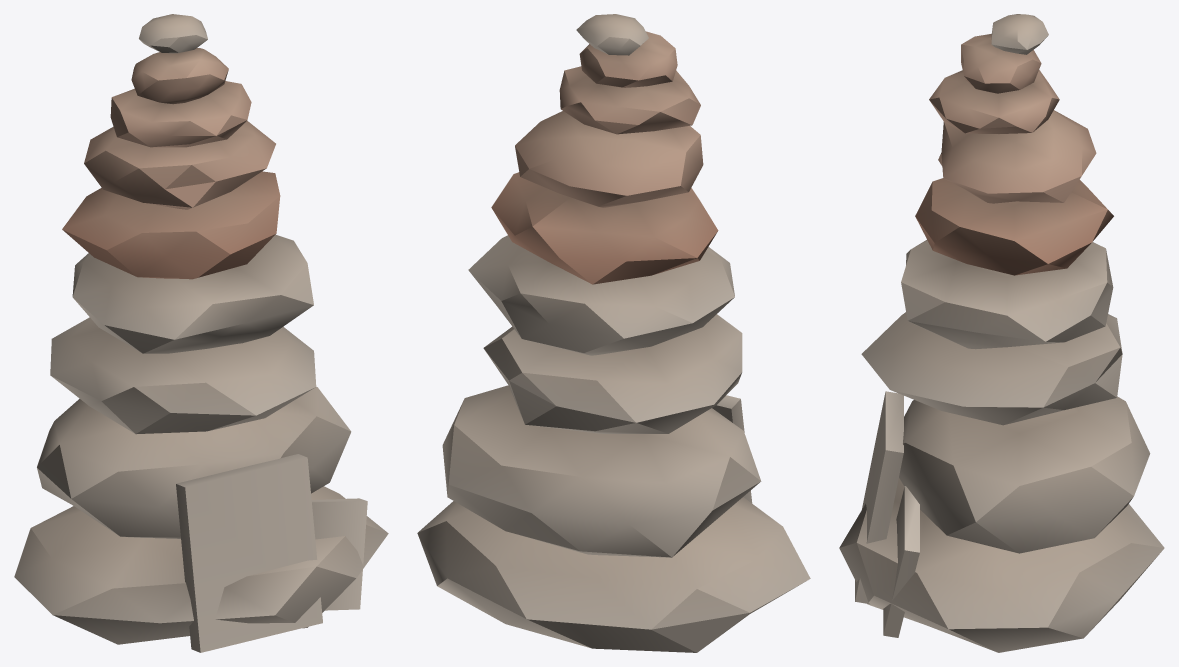
File: cairn_names.glb
3 views of the same model, side by side, from view 1: azimuth 30°, elevation 25°; view 2: azimuth 150°, elevation 25°; view 3: azimuth 270°, elevation 25° (orthographic). The views are drawn at different scales.
Visible parts, largest first — view 1: cairn_names; view 2: cairn_names; view 3: cairn_names.
Part boxes in pixels (x1,y1,x2,y2): cairn_names: (14, 14, 388, 652); cairn_names: (417, 14, 810, 652); cairn_names: (839, 14, 1164, 652).
Size of the model in its own units: 2.47 by 4.2 by 2.1.
